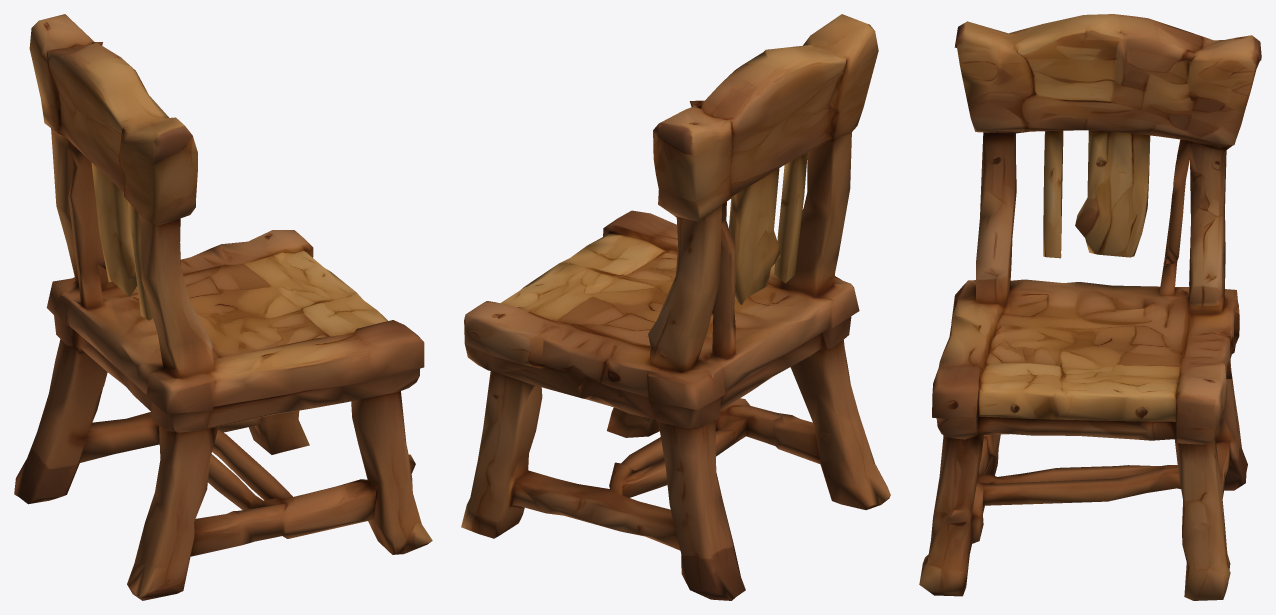
Rendered from chair.glb.
The picture shows the model from 3 angles, left to right: view 1: azimuth 30°, elevation 25°; view 2: azimuth 150°, elevation 25°; view 3: azimuth 270°, elevation 25°; orthographic projection. The views are drawn at different scales.
Visible parts, largest first — view 1: tripo_node_0898d99e-fdc5-417d-bcf8-9d9ad6ef6341; view 2: tripo_node_0898d99e-fdc5-417d-bcf8-9d9ad6ef6341; view 3: tripo_node_0898d99e-fdc5-417d-bcf8-9d9ad6ef6341.
Part boxes in pixels (x1,y1,x2,y2): tripo_node_0898d99e-fdc5-417d-bcf8-9d9ad6ef6341: (14,14,432,600); tripo_node_0898d99e-fdc5-417d-bcf8-9d9ad6ef6341: (461,14,890,600); tripo_node_0898d99e-fdc5-417d-bcf8-9d9ad6ef6341: (919,14,1261,600).
Bounding box in the file's own units: 0.6333 × 1 × 0.6657.
Materials: 1 (1 with a texture image).
